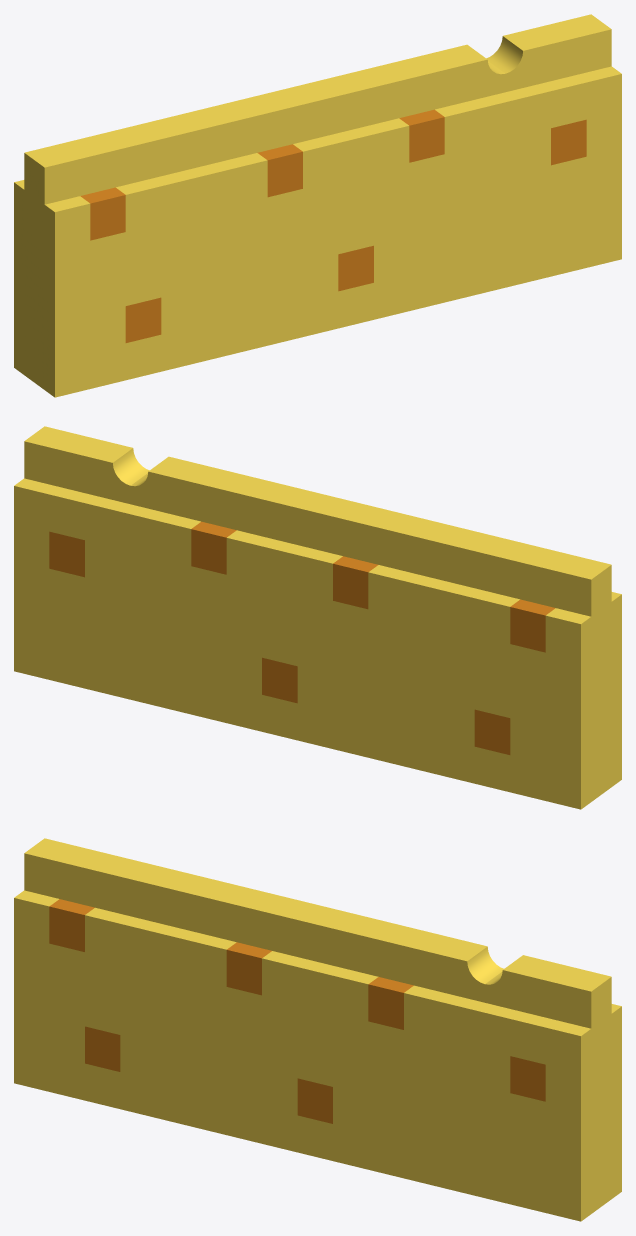
File: suelo_arena_escena1.obj
3 views of the same model, one above another, from view 1: azimuth 30°, elevation 25°; view 2: azimuth 150°, elevation 25°; view 3: azimuth 330°, elevation 25° (orthographic).
Size of the model in its own units: 16 by 6 by 2.
